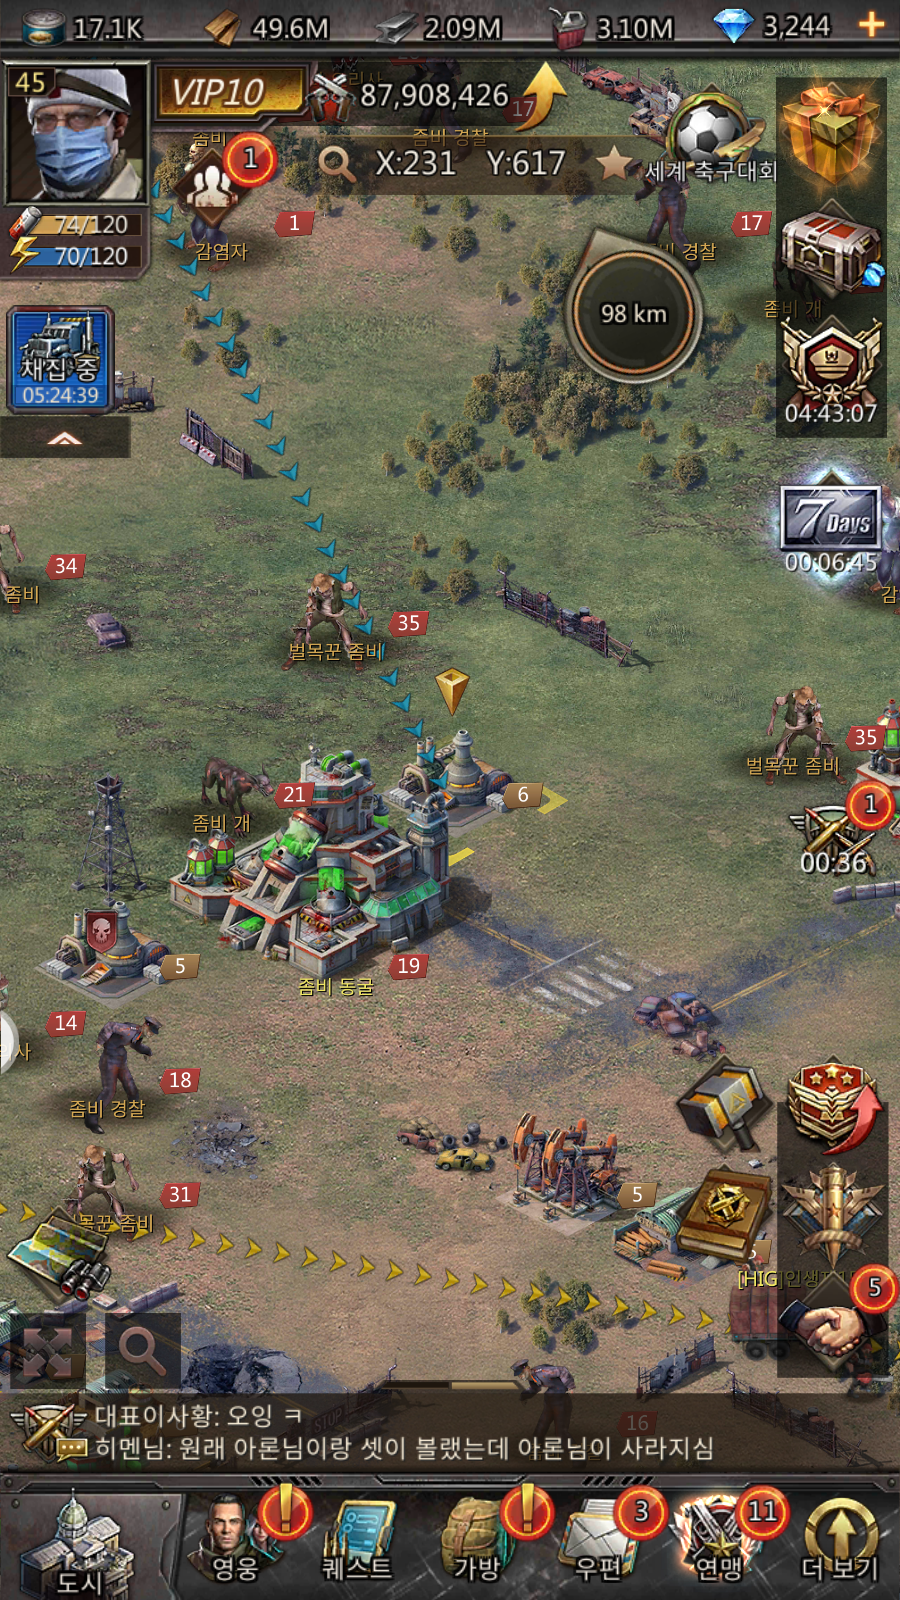city: (16, 1475, 173, 1600)
occupied_steel: (333, 649, 598, 884)
open_panel: (95, 1298, 215, 1405)
troops_cnt_1: (164, 118, 293, 258)
